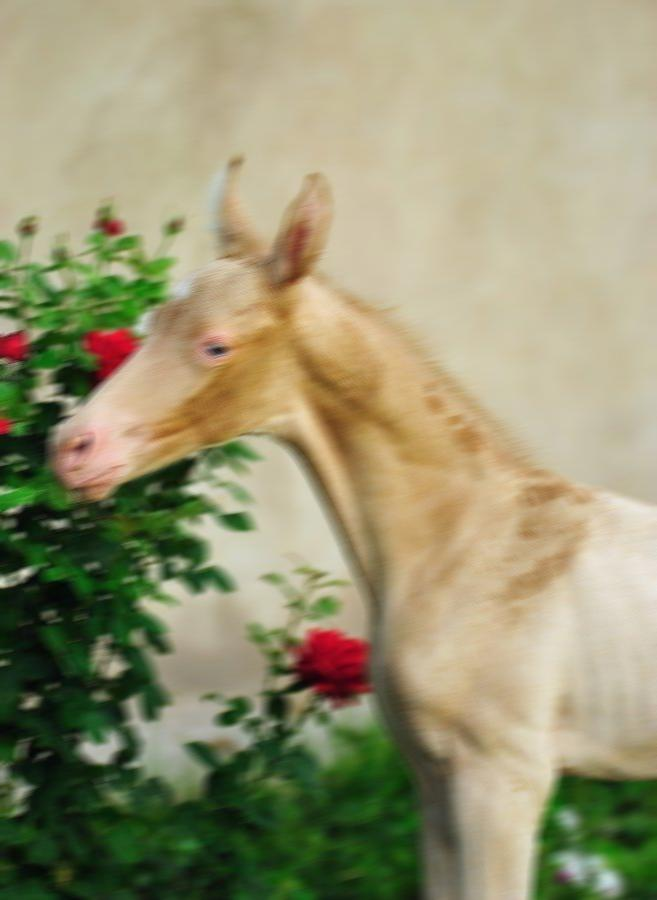horse: (45, 152, 657, 898)
